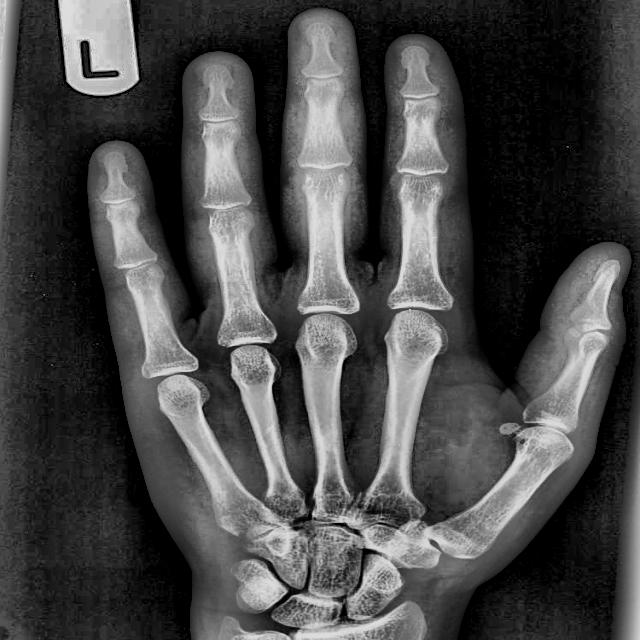fracture: (568, 325, 596, 351)
